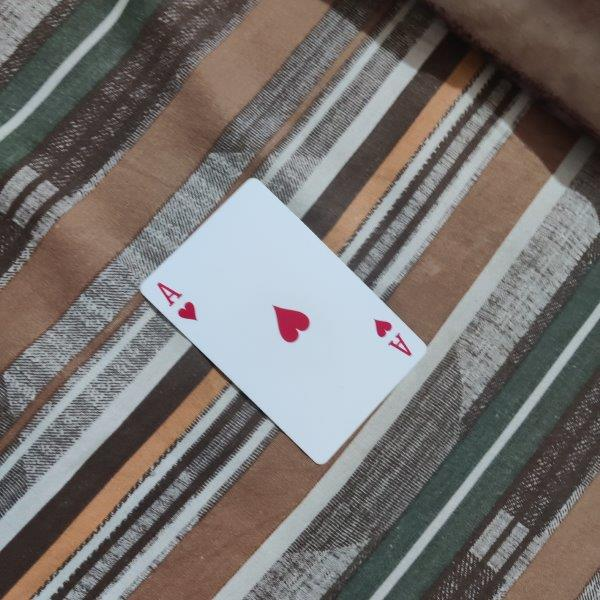Ace of Hearts: (139, 177, 427, 466)
